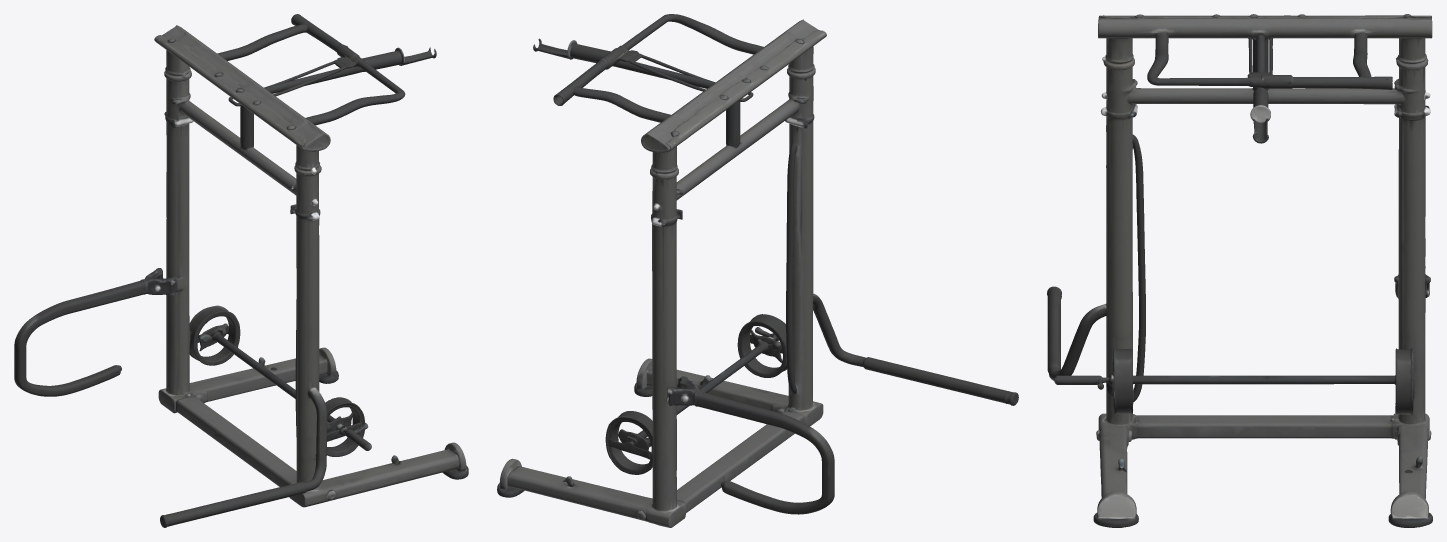
File: plaza-outdoor-gym.glb
3 renders of one model, left to right at view 1: azimuth 30°, elevation 25°; view 2: azimuth 150°, elevation 25°; view 3: azimuth 270°, elevation 25°, orthographic. The views are drawn at different scales.
Parts seen in each view (by area): view 1: tripo_node_ab9f8a85-8607-4b26-af35-253ce5d9ab5c; view 2: tripo_node_ab9f8a85-8607-4b26-af35-253ce5d9ab5c; view 3: tripo_node_ab9f8a85-8607-4b26-af35-253ce5d9ab5c.
Part boxes in pixels (x1,y1,x2,y2): tripo_node_ab9f8a85-8607-4b26-af35-253ce5d9ab5c: (14, 14, 468, 527); tripo_node_ab9f8a85-8607-4b26-af35-253ce5d9ab5c: (497, 14, 1018, 527); tripo_node_ab9f8a85-8607-4b26-af35-253ce5d9ab5c: (1047, 14, 1432, 527).
Size of the model in its own units: 2.01 by 2 by 1.64.
1 material, 1 textured.
